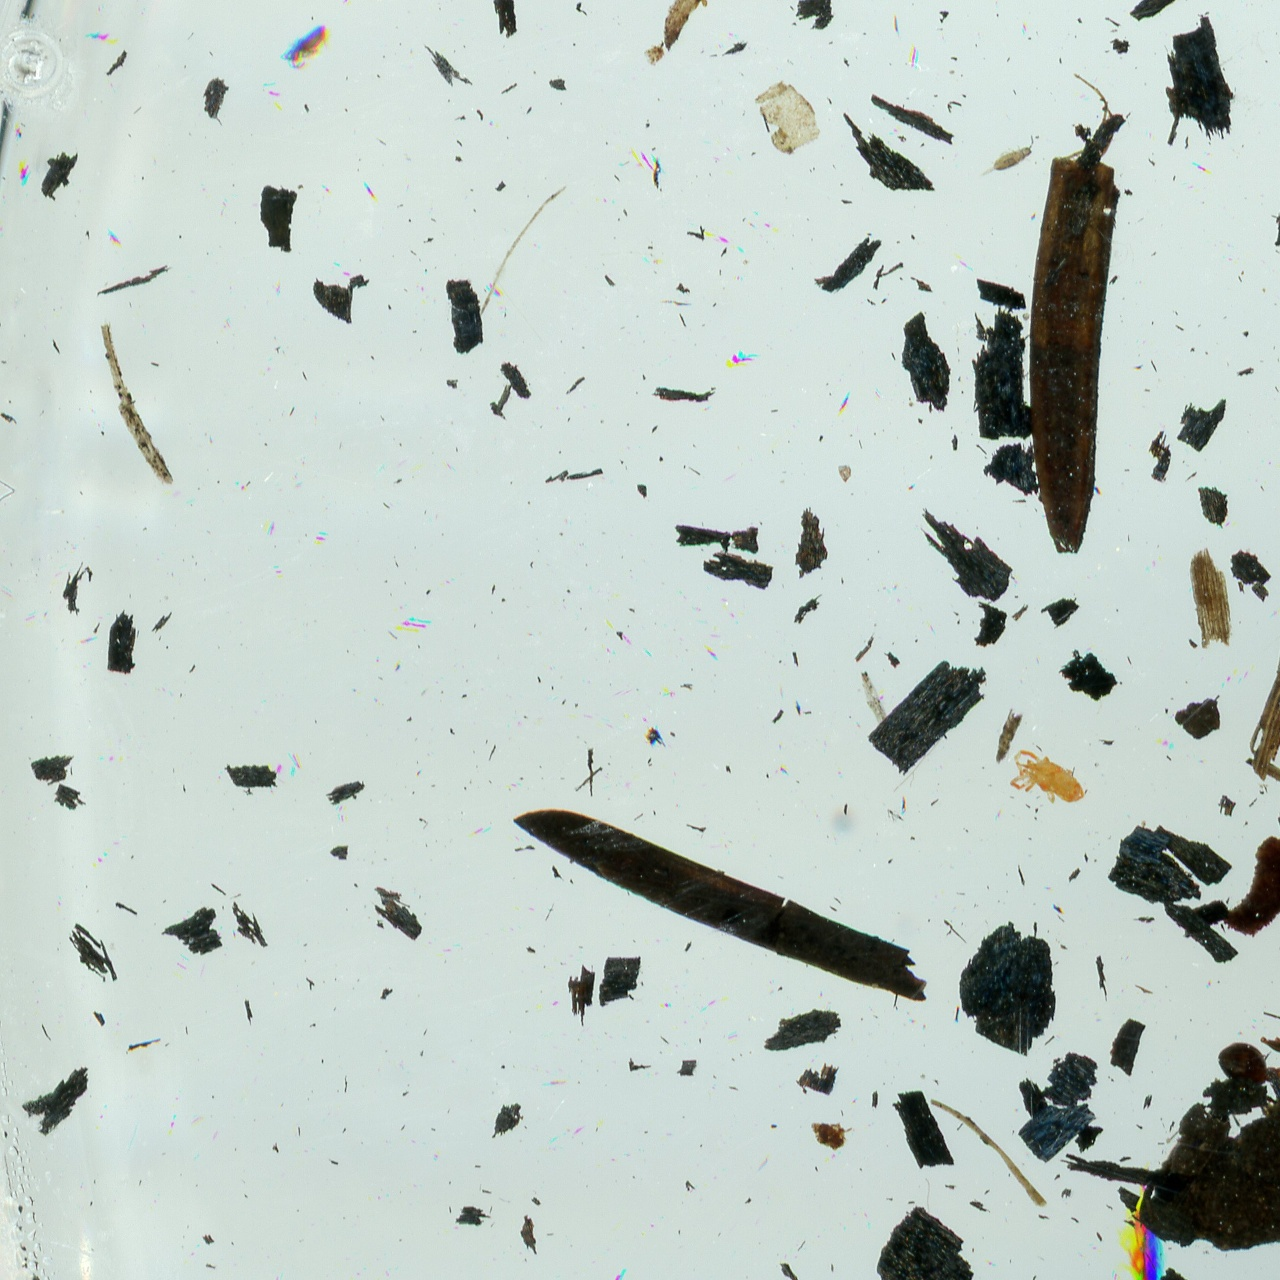arthropod: (998, 738, 1097, 822), (1214, 1021, 1280, 1114), (1111, 1180, 1170, 1280), (968, 130, 1046, 190), (277, 16, 333, 74)
